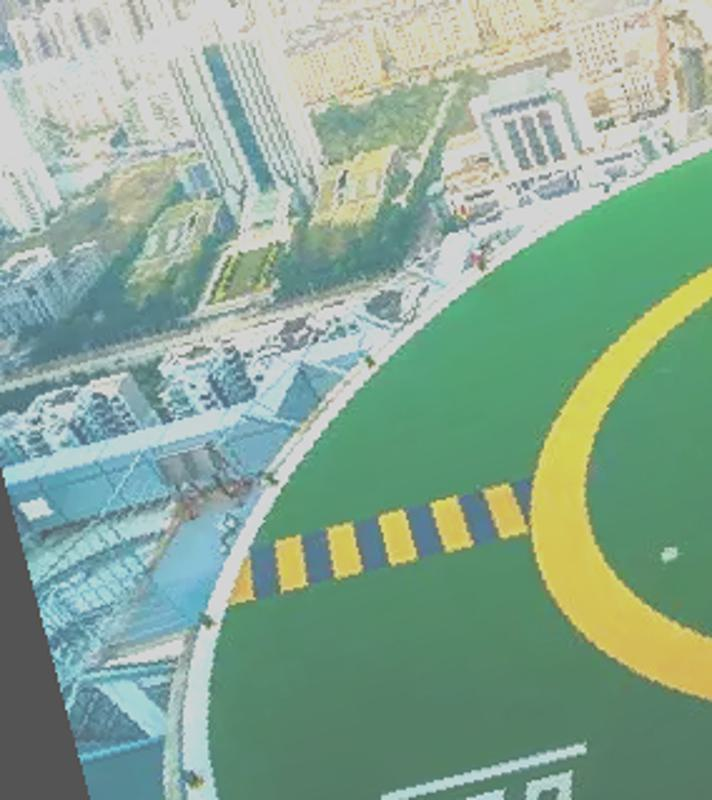Apron: (502, 229, 712, 717)
